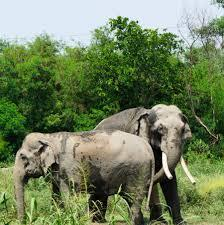elephant: (13, 104, 190, 224)
